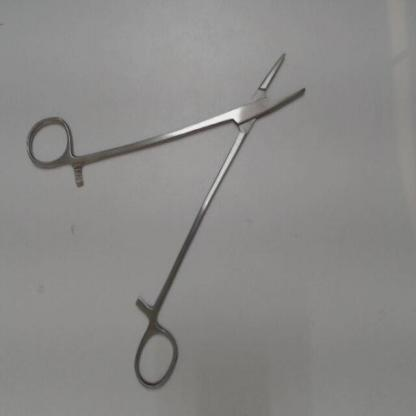8 Mayo Needle Holder: (22, 40, 322, 400)
